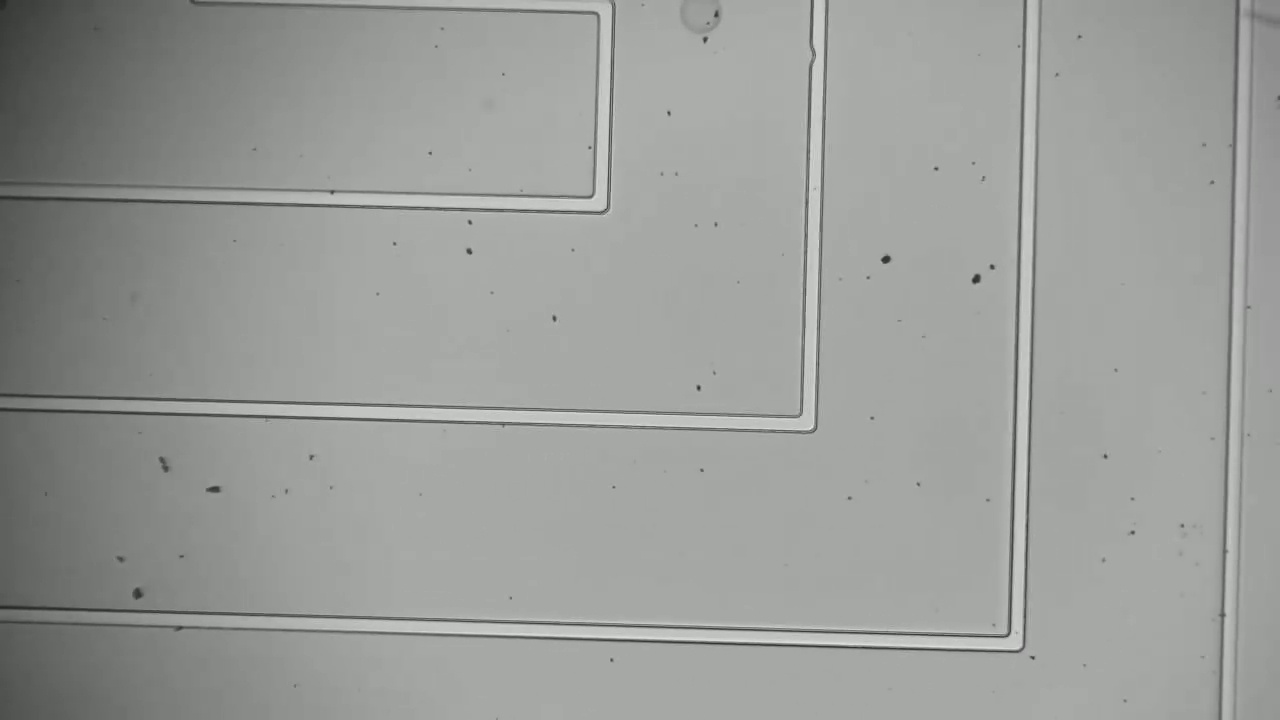edge_bite: (800, 36, 833, 74)
